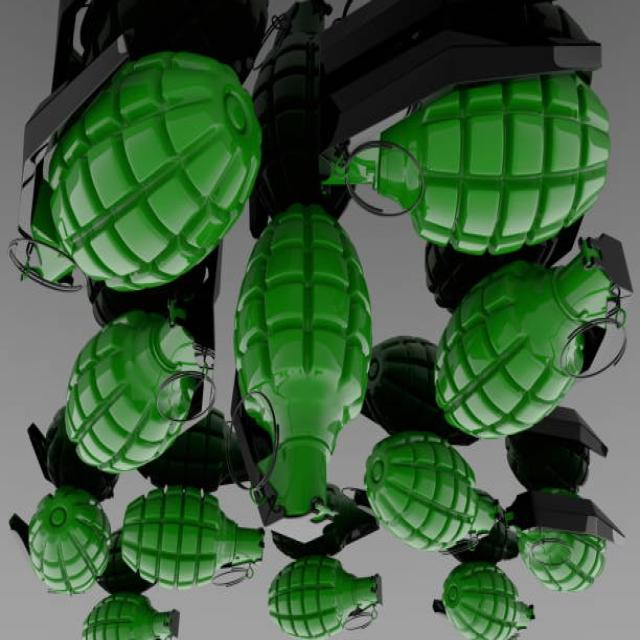grenade: (307, 23, 619, 270), (5, 28, 269, 304)
